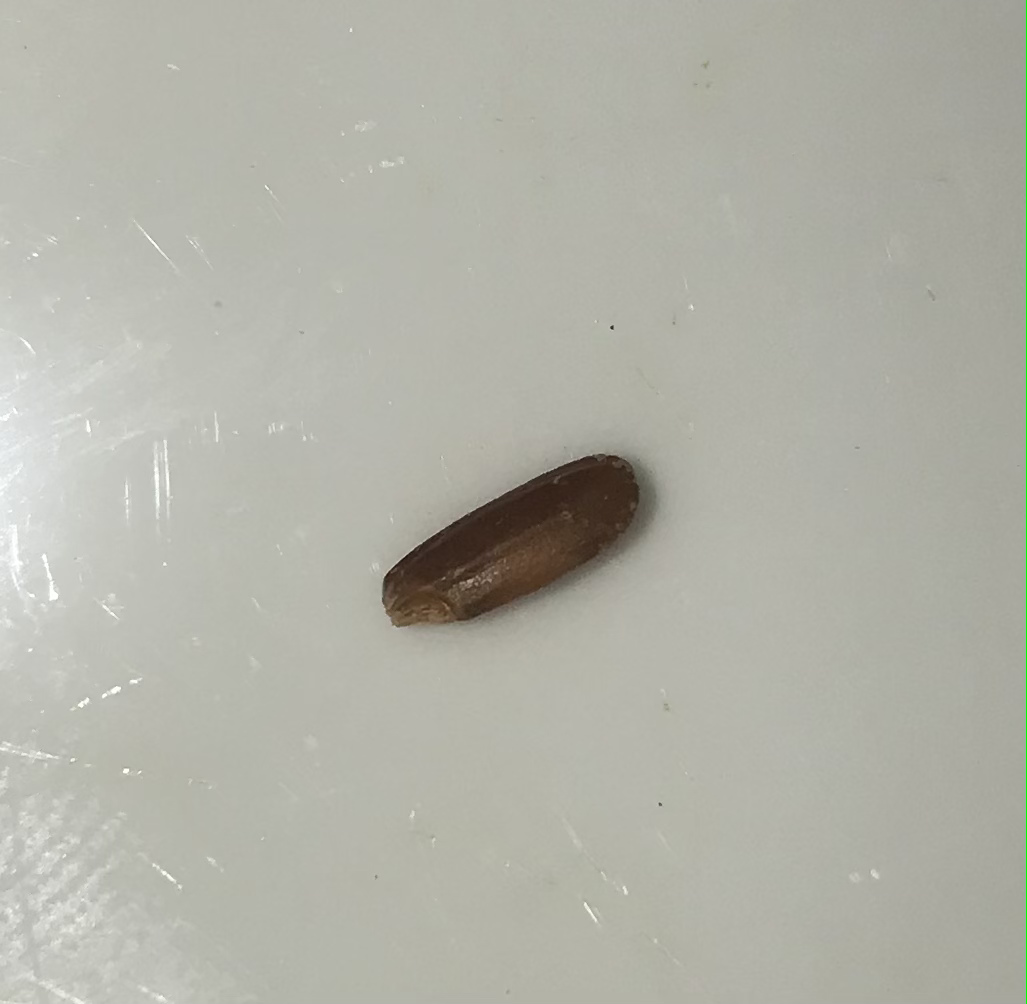Gao Lut Do: (369, 438, 654, 637)
